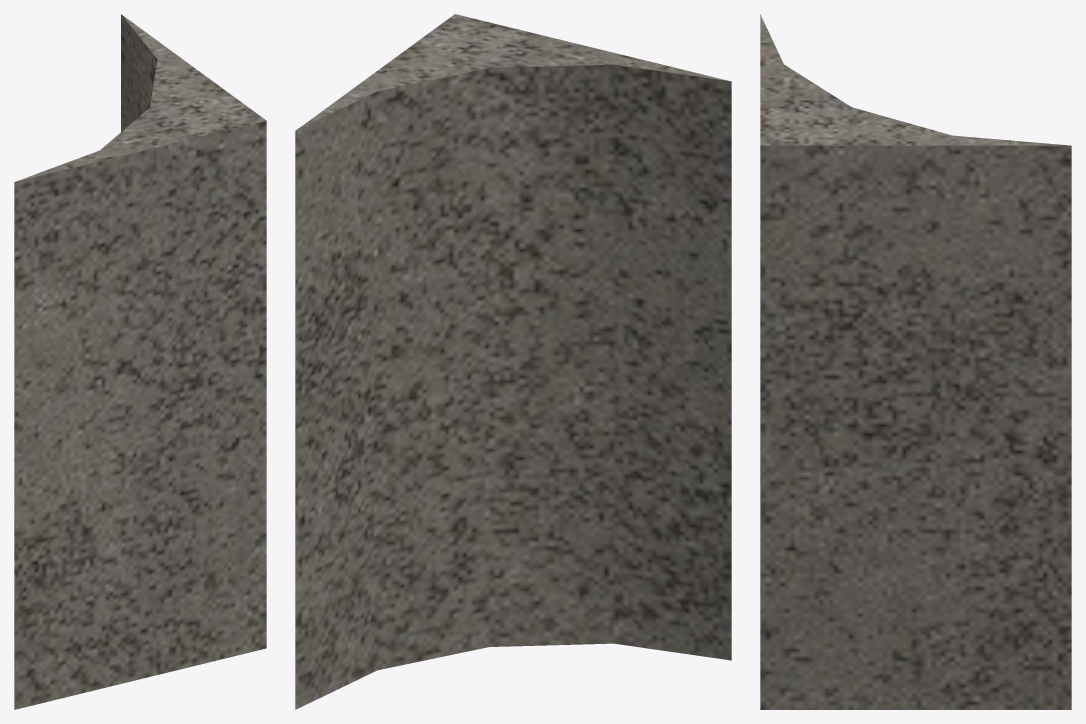
Rendered from SpiralStairsWallR1mC.obj.
3 views of the same model, side by side, from view 1: azimuth 30°, elevation 25°; view 2: azimuth 150°, elevation 25°; view 3: azimuth 270°, elevation 25° (orthographic). The views are drawn at different scales.
Bounding box in the file's own units: 1 × 2 × 1.
1 material, 1 textured.
